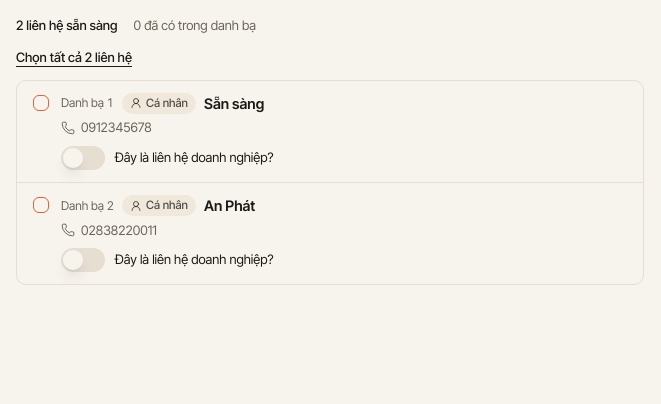
Test: the count line separates what is ready from what still needs filling in
Expected: the text "2 liên hệ sẵn sàng" is shown, [16,16,118,36]
Click the switch below "02838220011". click: (83, 260)
box: [61,248,105,272]
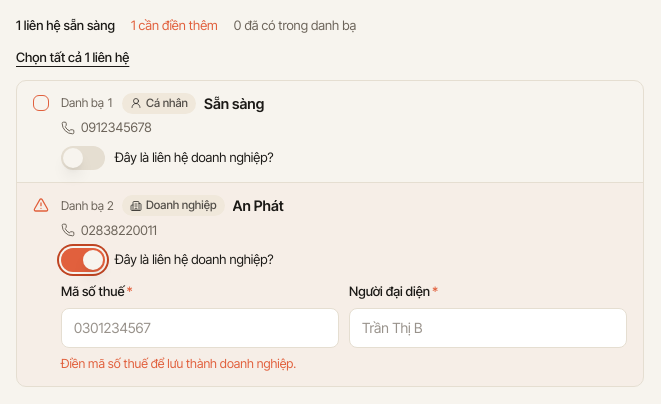
Expected: the text "1 liên hệ sẵn sàng" is shown, [16,16,115,36]
Expected: the text "1 cần điền thêm" is shown, [131,16,218,36]
